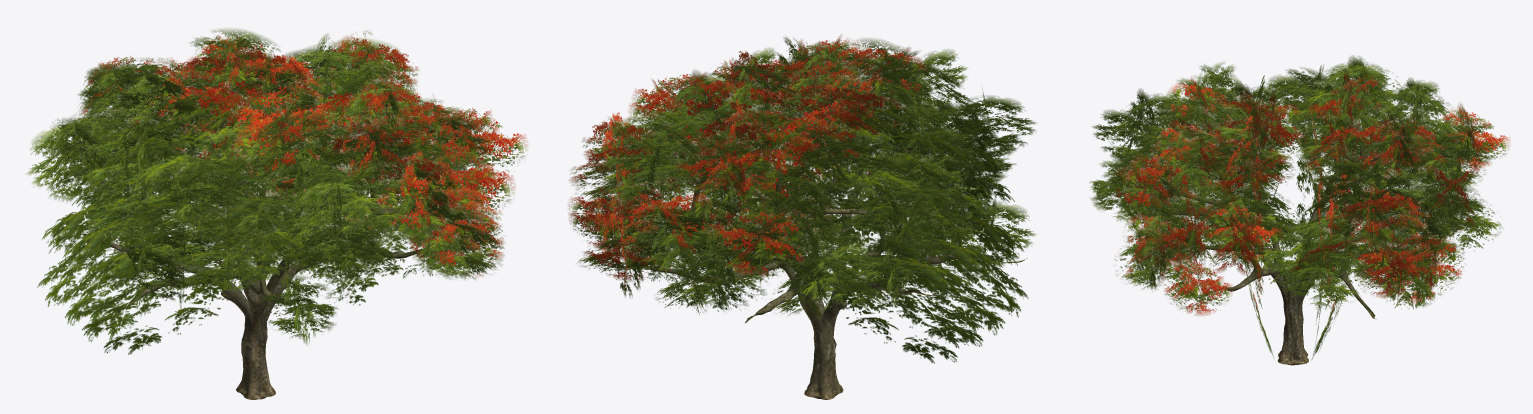
File: krishnachura_tree.glb
3 views of the same model, side by side, from view 1: azimuth 30°, elevation 25°; view 2: azimuth 150°, elevation 25°; view 3: azimuth 270°, elevation 25° (orthographic). The views are drawn at different scales.
Visible parts, largest first — view 1: Krishnachura_Foliage, Krishnachura_Trunk; view 2: Krishnachura_Foliage, Krishnachura_Trunk; view 3: Krishnachura_Foliage, Krishnachura_Trunk.
Boxes of the visible parts, bbox=[...] form: Krishnachura_Foliage: bbox=[26, 28, 527, 354]; Krishnachura_Trunk: bbox=[66, 84, 461, 399]; Krishnachura_Foliage: bbox=[568, 35, 1036, 363]; Krishnachura_Trunk: bbox=[621, 81, 1027, 399]; Krishnachura_Foliage: bbox=[1089, 55, 1509, 359]; Krishnachura_Trunk: bbox=[1126, 112, 1463, 365].
Bounding box in the file's own units: 1.08 × 0.7789 × 1.1.
Materials: 3 (3 with a texture image).
